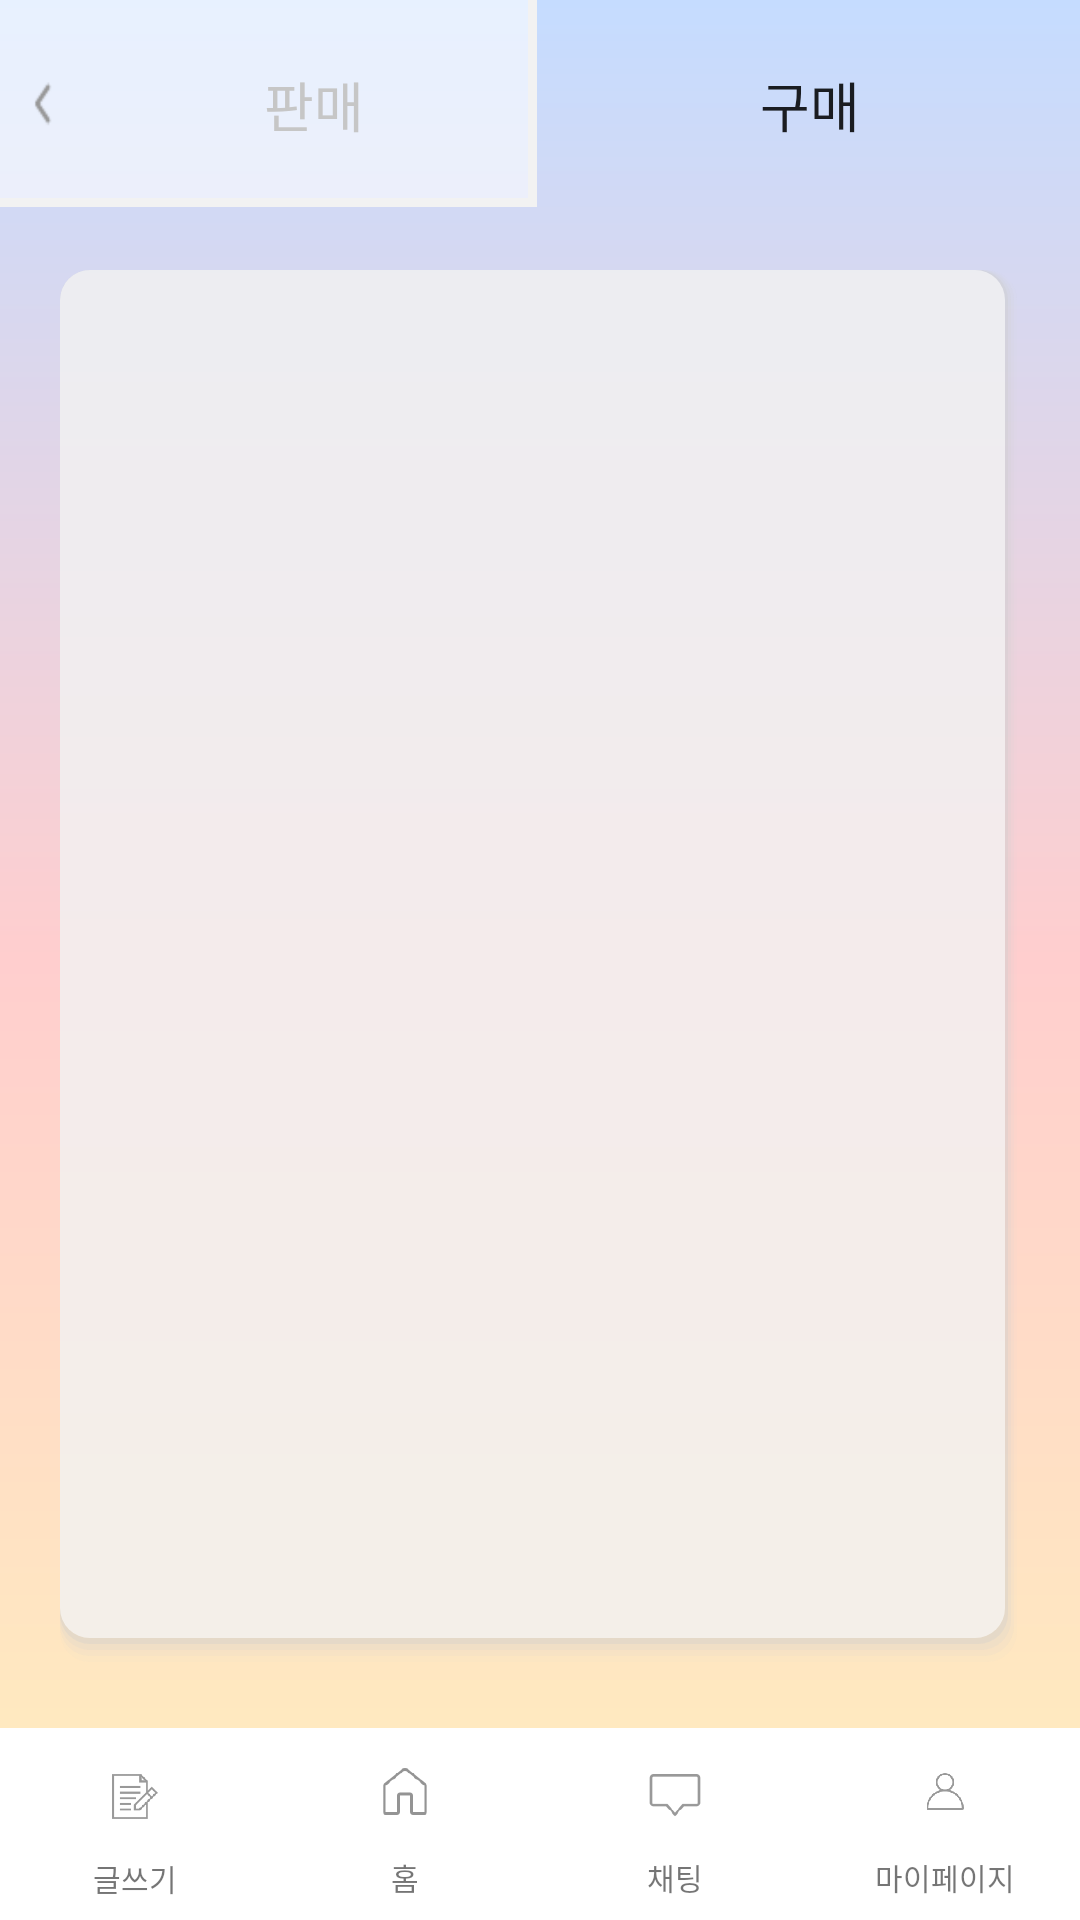

Screen size 1080x1920. Icon name, then its box in pixels as rect(x1, y1, x2, y2):
back: rect(35, 84, 51, 124)
contract: rect(112, 1774, 158, 1819)
house: rect(383, 1768, 427, 1815)
mypage: rect(927, 1773, 964, 1810)
